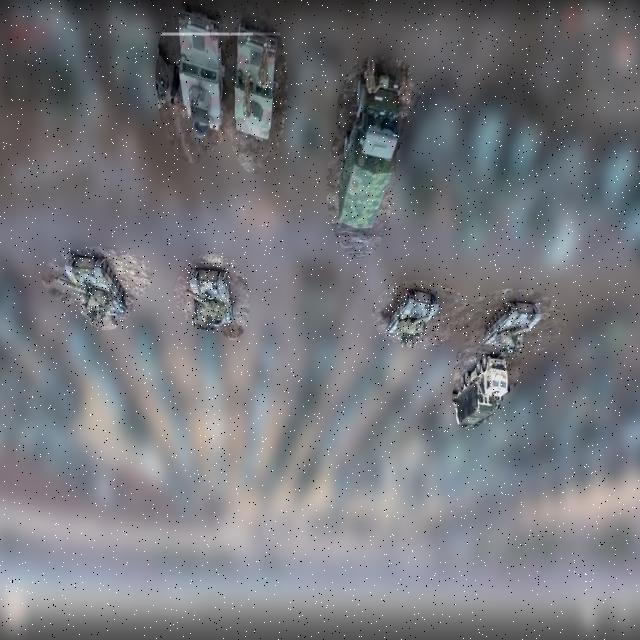MIL_MBT: (62, 252, 128, 330), (482, 300, 542, 358), (386, 284, 440, 348), (187, 262, 235, 332)
